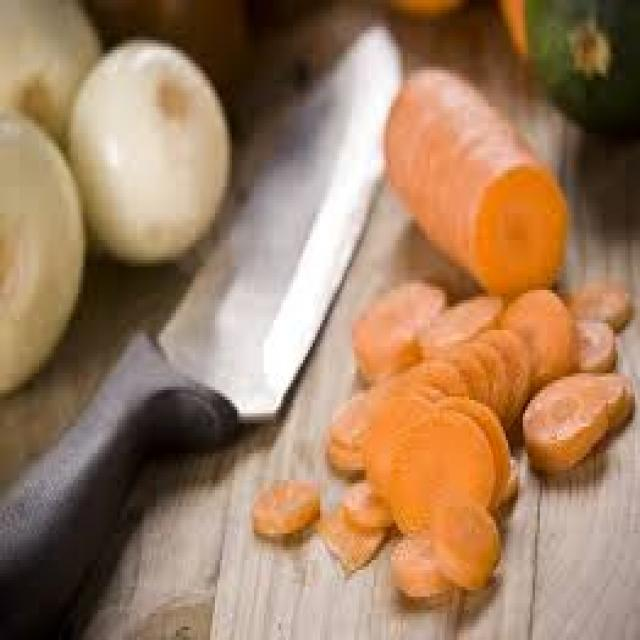organic waste: (383, 67, 564, 290), (64, 33, 227, 260), (0, 100, 81, 383), (525, 0, 638, 130), (0, 0, 100, 143), (383, 406, 496, 526), (434, 390, 506, 520), (352, 280, 442, 380), (359, 397, 435, 513), (520, 374, 606, 464), (498, 283, 576, 380), (476, 327, 526, 460), (430, 493, 496, 590), (445, 343, 503, 450), (418, 287, 498, 353), (318, 497, 386, 570), (249, 470, 320, 537), (388, 530, 457, 597), (566, 360, 632, 427), (330, 380, 391, 447), (567, 280, 630, 330), (401, 357, 469, 403), (376, 383, 440, 417), (572, 313, 610, 370), (325, 433, 371, 477), (339, 484, 388, 524), (498, 0, 527, 53), (489, 444, 513, 504)
